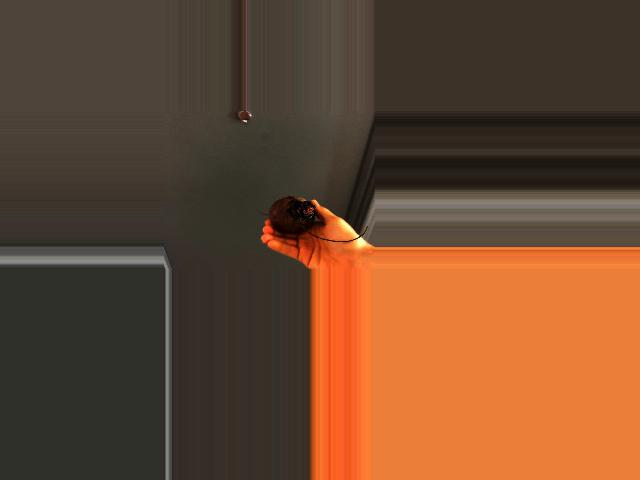beet: (256, 197, 366, 243)
